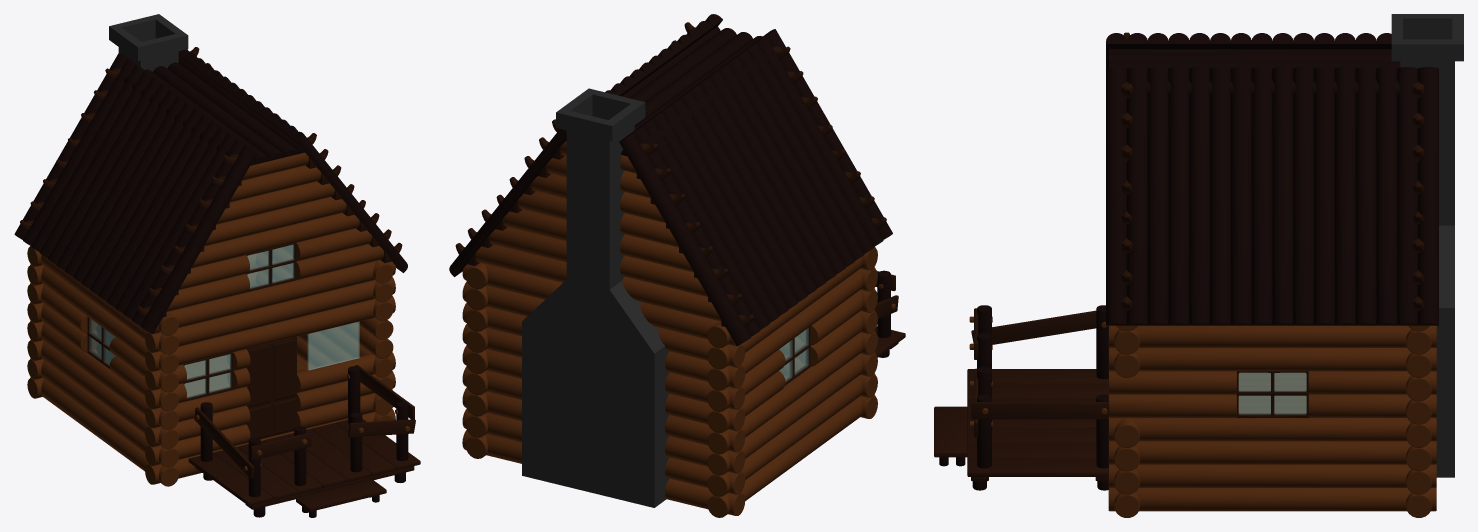
File: NPC_wood house.FBX
3 renders of one model, left to right at view 1: azimuth 30°, elevation 25°; view 2: azimuth 150°, elevation 25°; view 3: azimuth 270°, elevation 25°, orthographic. The views are drawn at different scales.
Parts seen in each view (by area): view 1: Cylinder121, Object012, wall005, Box078, Cylinder123, Box087, Cylinder125, Object016, Box093, wall006, Object011, Box072 (+12 smaller); view 2: Cylinder121, Box093, Object011, wall005, Cylinder123, wall006, Box072, Object014, Object012, Box092, Cylinder125, Box082 (+2 smaller); view 3: Cylinder121, wall005, Box078, Box093, wall006, Cylinder123, Object016, Cylinder125, Object011, Object012, Box085, Box096 (+2 smaller).
Part boxes in pixels (x1,y1,x2,y2): Cylinder121: (14,49,407,333); Object012: (145,152,395,465); wall005: (30,245,393,467); Box078: (188,418,420,511); Cylinder123: (124,57,305,165); Box087: (246,337,296,439); Cylinder125: (200,366,408,517); Object016: (194,365,415,478); Box093: (96,14,188,362); wall006: (30,377,392,486); Object011: (27,246,256,379); Box072: (20,47,402,316); Cylinder121: (449,14,892,345); Box093: (522,88,669,507); Object011: (462,141,745,494); wall005: (465,246,875,496); Cylinder123: (564,26,769,155); wall006: (465,394,875,517); Box072: (455,22,886,325); Object014: (462,430,745,515); Object012: (779,247,877,397); Box092: (779,328,808,381); Cylinder125: (877,270,890,357); Box082: (467,147,725,326); Cylinder121: (1106,33,1438,325); wall005: (1108,325,1436,487); Box078: (934,369,1108,476); Box093: (1391,14,1463,477); wall006: (1108,487,1436,511); Cylinder123: (1108,49,1418,93); Object016: (971,308,1108,437); Cylinder125: (939,305,1108,490); Object011: (1406,98,1431,494); Object012: (1114,98,1140,494); Box085: (1238,372,1306,414); Box096: (1238,372,1306,413).
Bounding box in the file's own units: 228 × 276 × 319.
